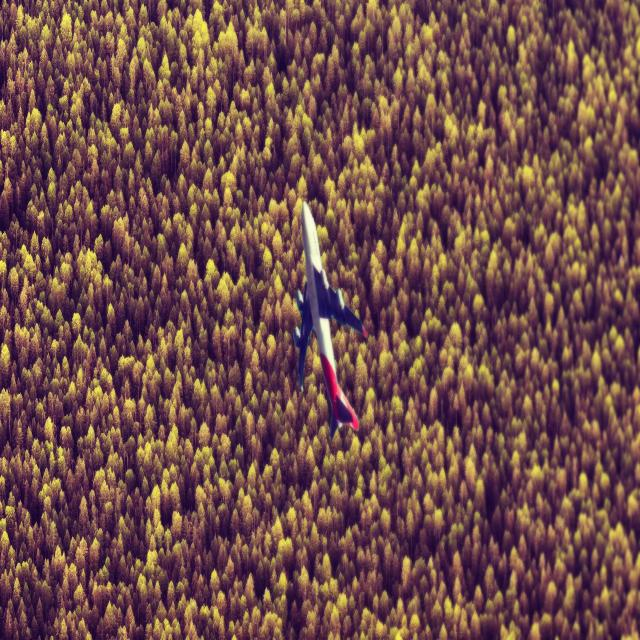airplane: (292, 200, 368, 440)
